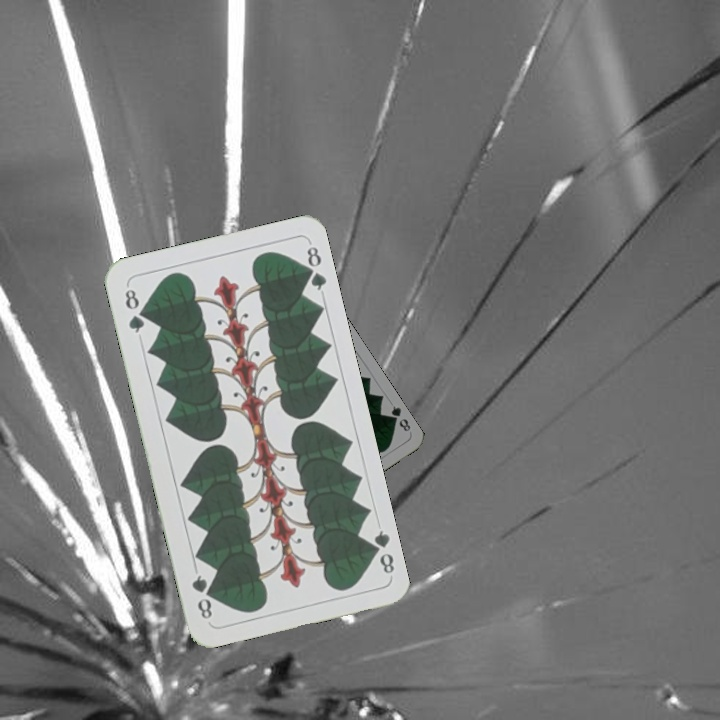G8: (364, 526, 397, 576), (121, 285, 147, 336), (384, 401, 413, 434)
